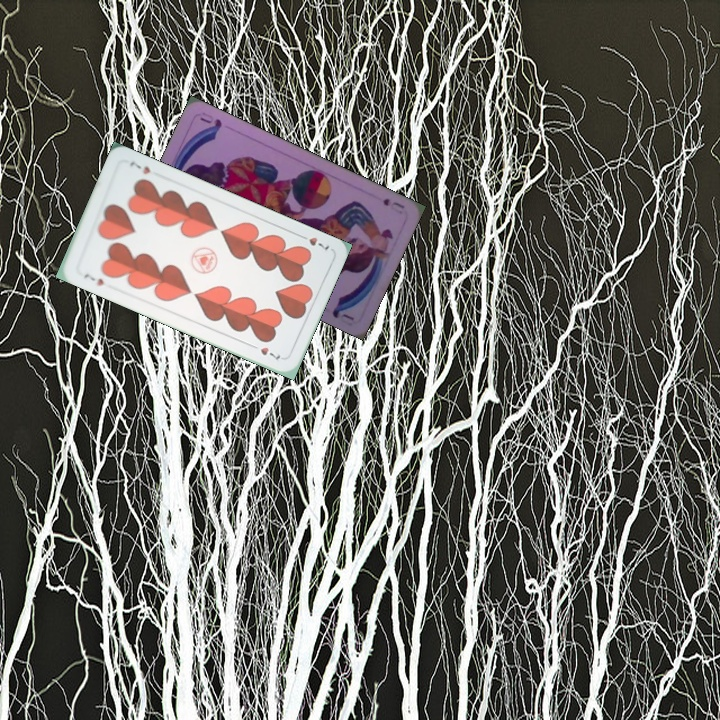H7: (295, 230, 332, 255), (80, 269, 106, 289)
SU: (379, 194, 407, 216)
